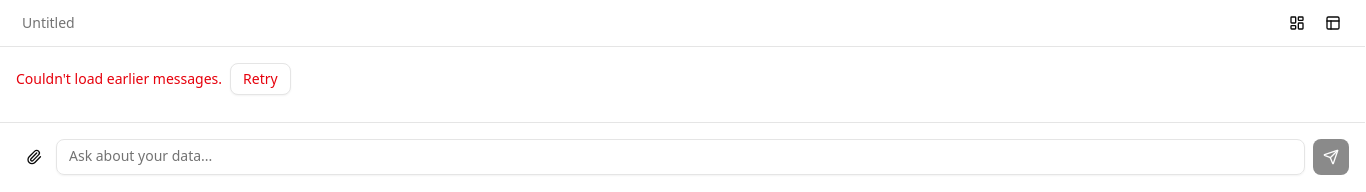
Scenario: a thread's history load › gives up on a stalled load, offers a retry, and loads on retry
In the text box: (680, 157) [56,139,1305,175], type "still here"
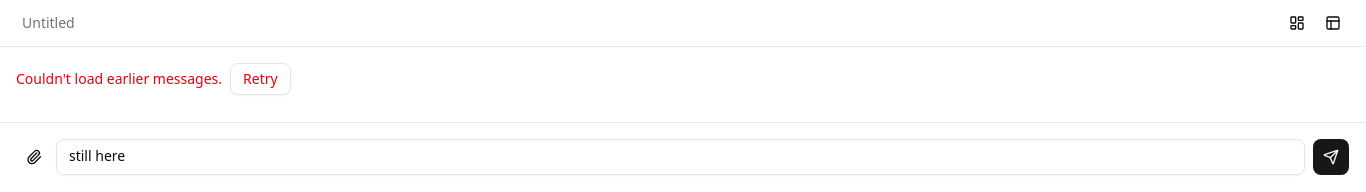
Expected: the button named "Send message" is enabled, [1313,139,1349,175]
Click the button with test id "chat-history-retry": (260, 79) [230,63,291,95]
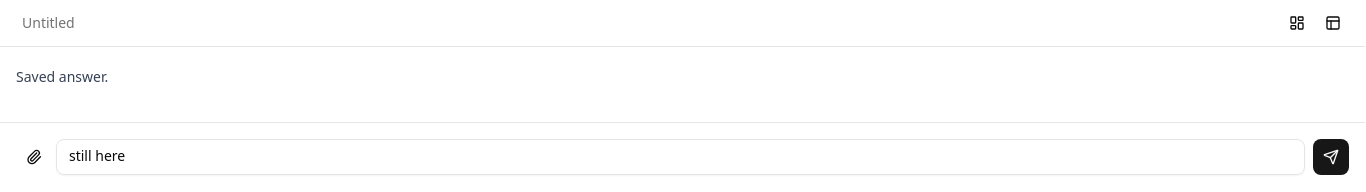
Expected: the text "Saved answer." is shown, [16,67,108,87]
Expected: the button with test id "chat-history-retry" is gone
